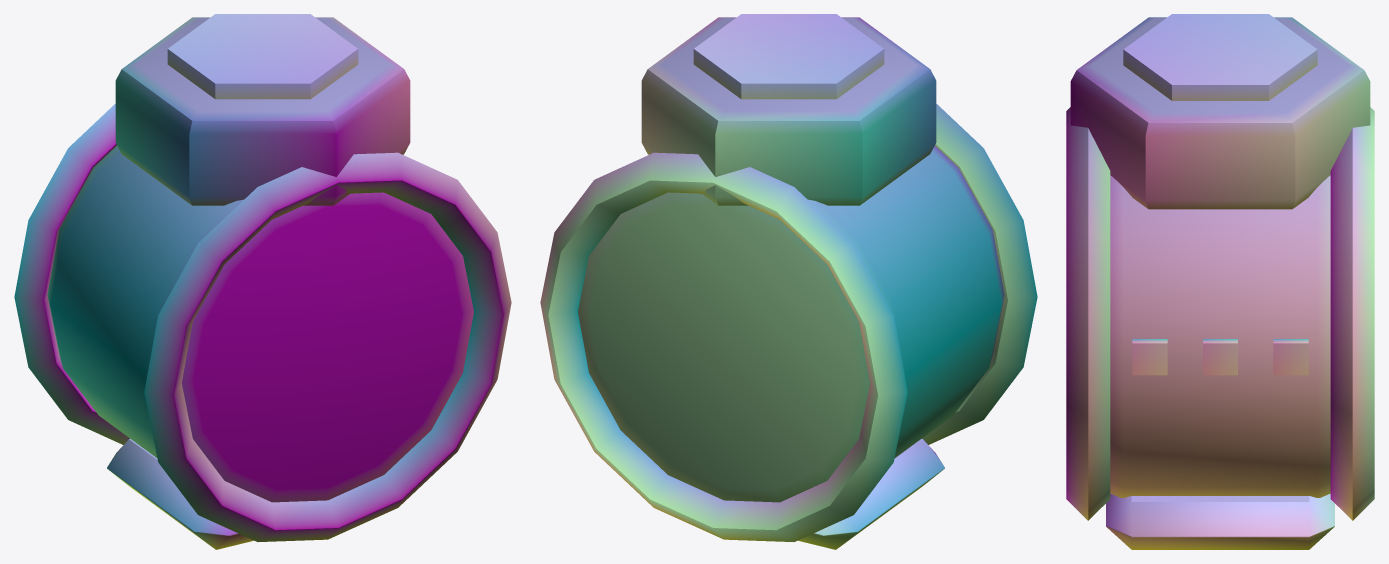
Rendered from gad_eshield.glb.
The picture shows the model from 3 angles, left to right: view 1: azimuth 30°, elevation 25°; view 2: azimuth 150°, elevation 25°; view 3: azimuth 270°, elevation 25°; orthographic projection.
Visible parts, largest first — view 1: eshield; view 2: eshield; view 3: eshield.
Part boxes in pixels (bbox=[...]): eshield: bbox=[14, 14, 511, 549]; eshield: bbox=[540, 14, 1037, 549]; eshield: bbox=[1066, 14, 1374, 549].
Size of the model in its own units: 0.049 by 0.057 by 0.035.
